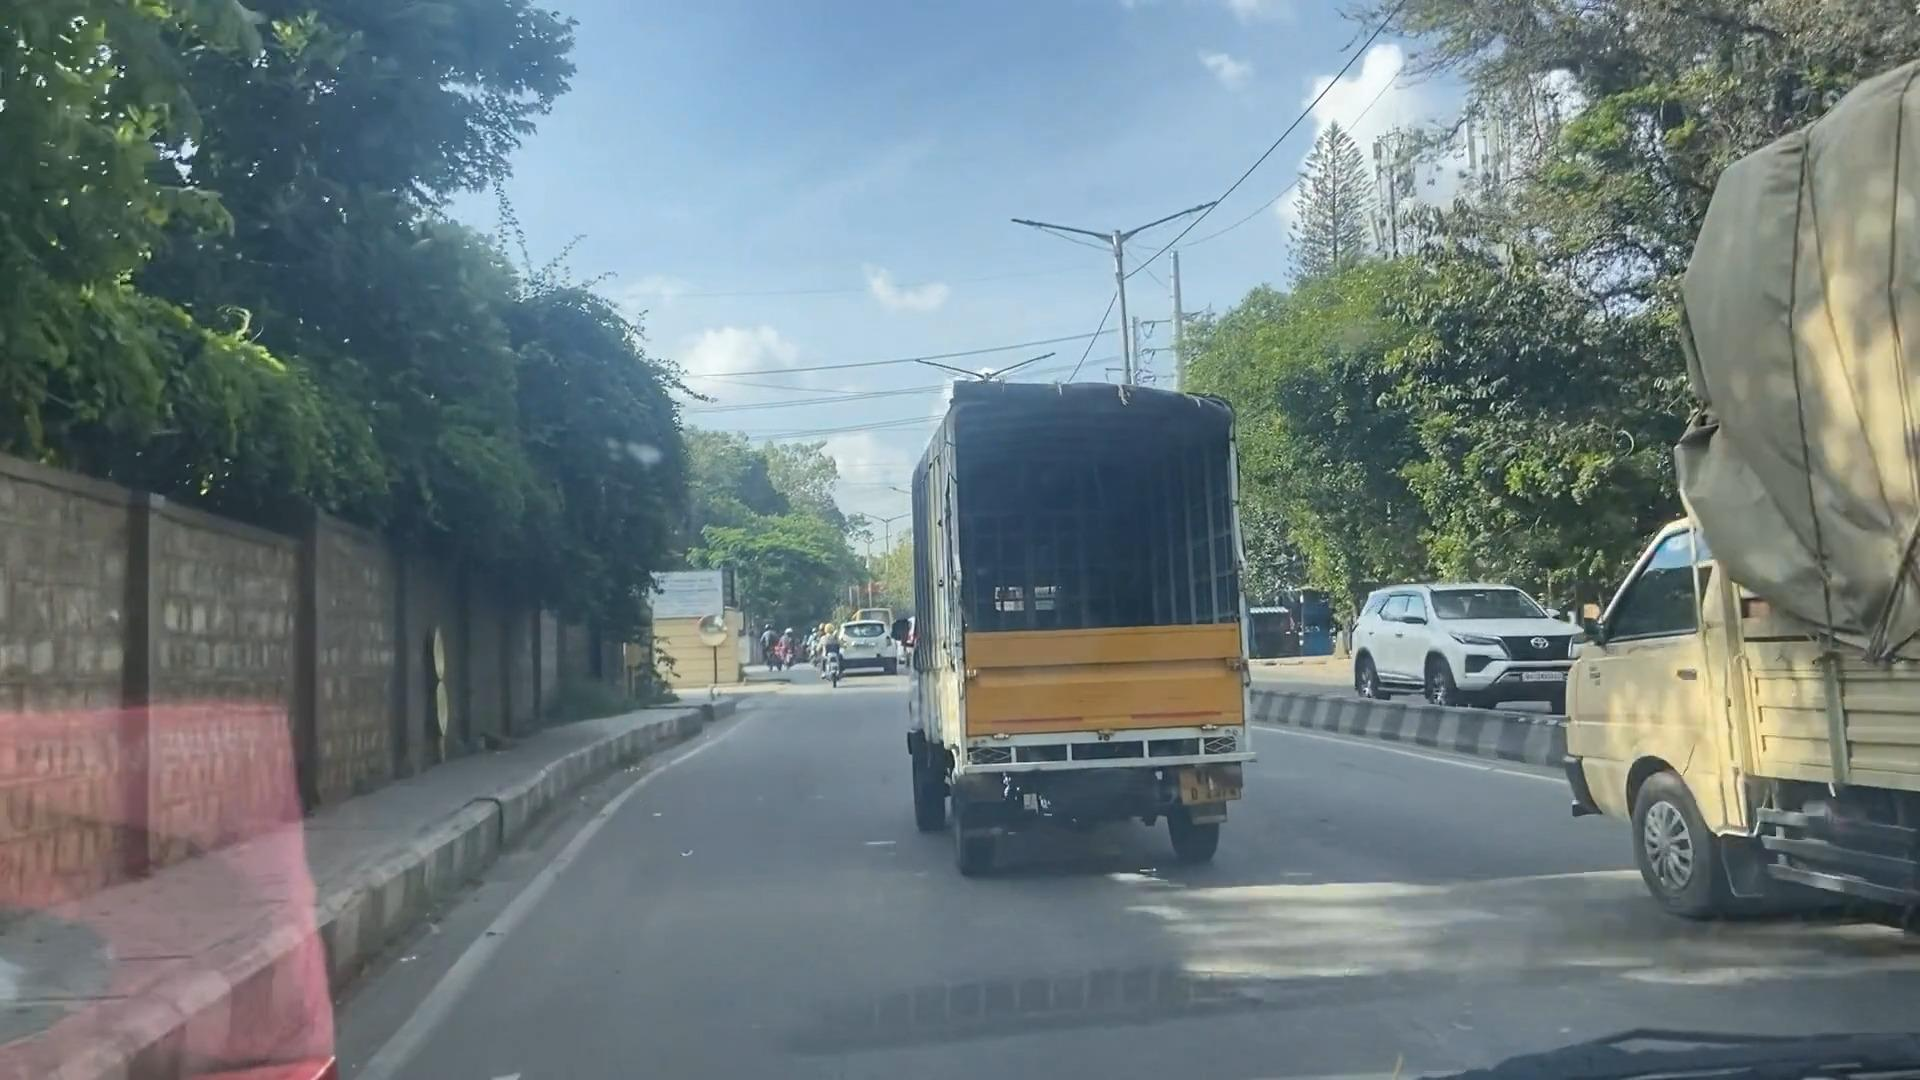HMV: (1532, 66, 1920, 945), (887, 349, 1311, 907)
